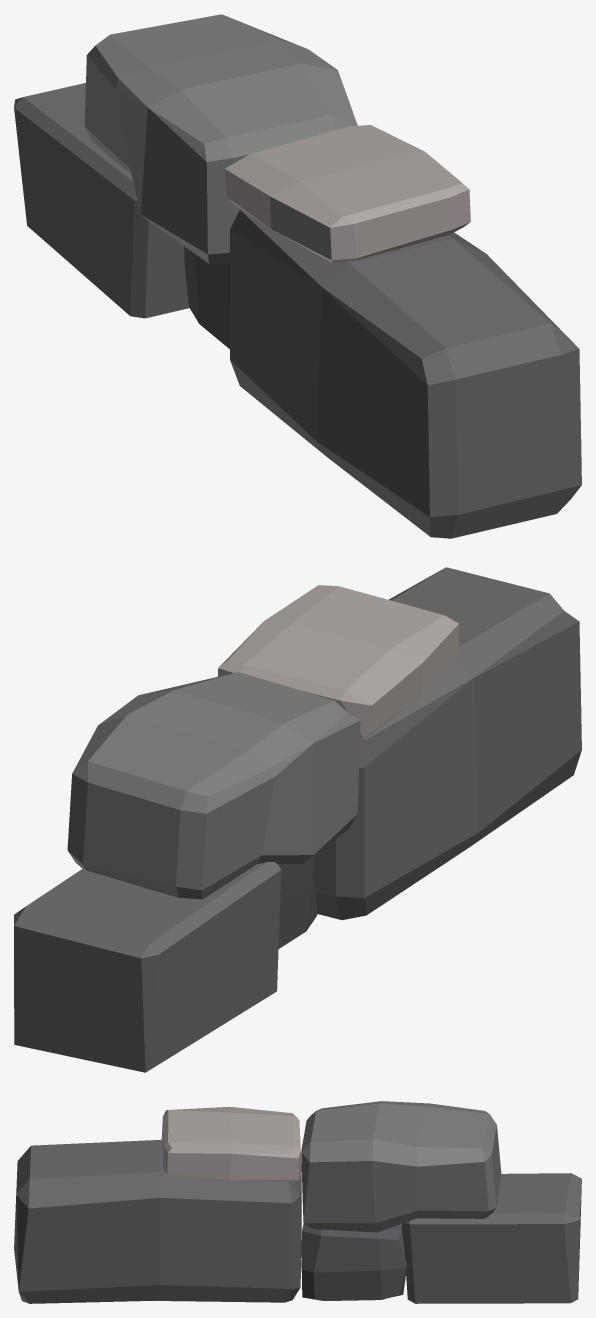
File: Murêt_roche_V2.fbx
The picture shows the model from 3 angles, top to bottom: view 1: azimuth 30°, elevation 25°; view 2: azimuth 150°, elevation 25°; view 3: azimuth 270°, elevation 25°; orthographic projection. The views are drawn at different scales.
Visible parts, largest first — view 1: Cube.004; view 2: Cube.004; view 3: Cube.004.
Boxes of the visible parts, box(x1,y1,x2,y2) form: Cube.004: box(14, 14, 581, 538); Cube.004: box(14, 567, 581, 1072); Cube.004: box(14, 1101, 581, 1303).
Bounding box in the file's own units: 41.51 × 51.99 × 162.
